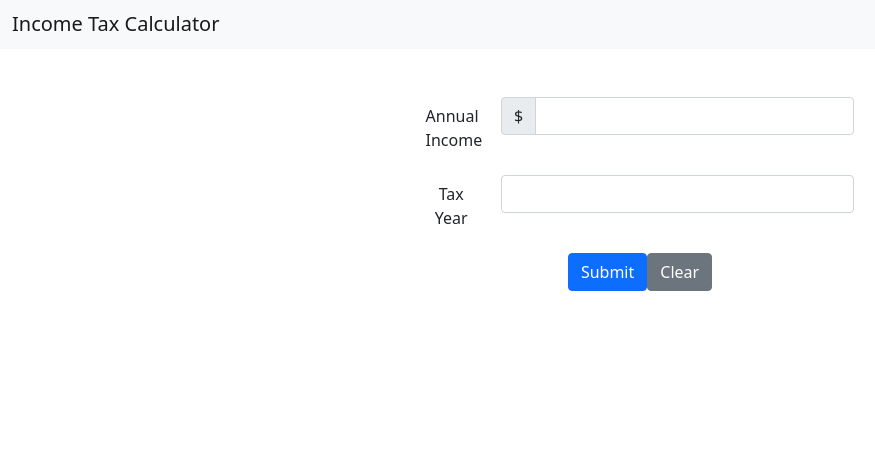
Test: Testing Dashboard › Invalid input scenarios › Empty Income and Incorrect year field
The image size is (875, 456).
In the field with id "year": (678,194) [501,175,855,213], type "201a"
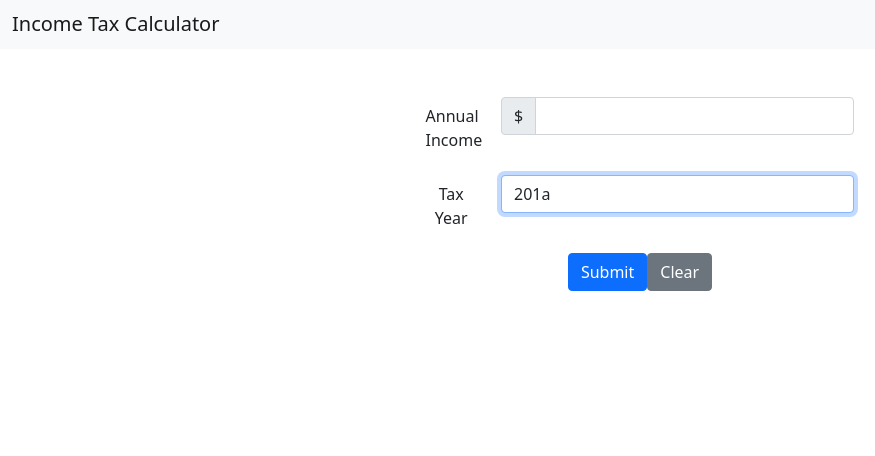
Click the button with id "submit": (608,272) [568,253,647,291]
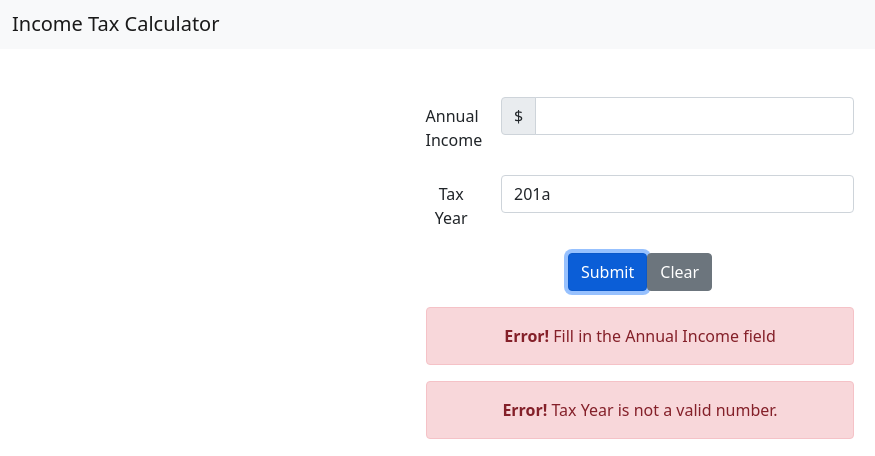
Now the text "Tax Year is not a valid number" is shown, box [551,399,777,421]
Now the text "Fill in the Annual Income field" is shown, box [553,325,775,347]
